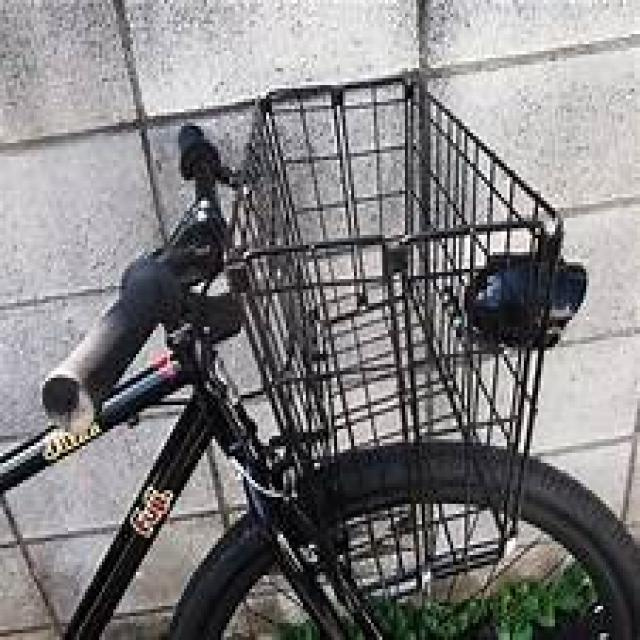basket: (216, 75, 568, 594)
